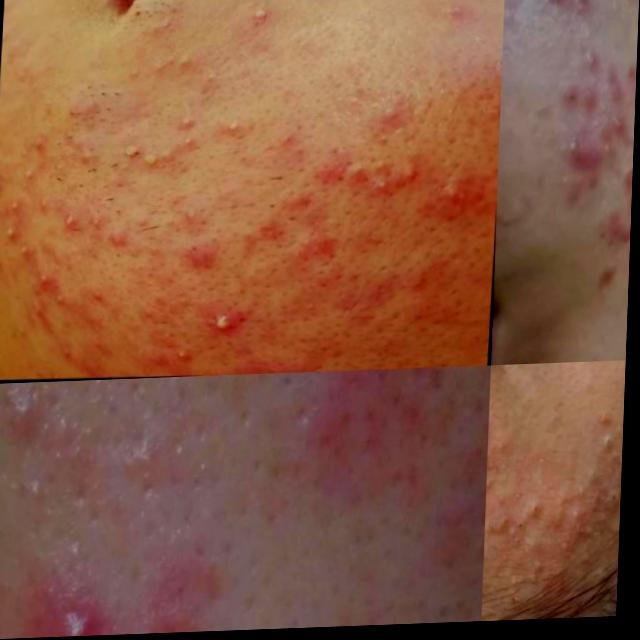8: (39, 566, 117, 638), (4, 382, 56, 478), (138, 602, 211, 635), (555, 81, 587, 125), (558, 132, 591, 173), (596, 260, 621, 297), (585, 51, 603, 87), (607, 116, 634, 140), (572, 0, 590, 22)
9: (204, 308, 245, 341), (59, 204, 82, 243), (31, 268, 62, 295), (6, 192, 36, 216), (369, 177, 400, 199), (172, 346, 199, 368), (0, 219, 24, 242), (17, 243, 37, 263)
blackheads: (601, 58, 638, 119), (608, 152, 635, 223), (444, 179, 480, 223), (598, 210, 633, 254), (616, 0, 640, 6)
dark spot: (606, 462, 626, 518), (368, 127, 403, 156), (529, 496, 552, 525), (614, 522, 624, 543)
whiteheads: (181, 243, 228, 277), (220, 113, 256, 152), (241, 0, 278, 34), (133, 144, 172, 176), (119, 138, 142, 171), (176, 110, 205, 133)
